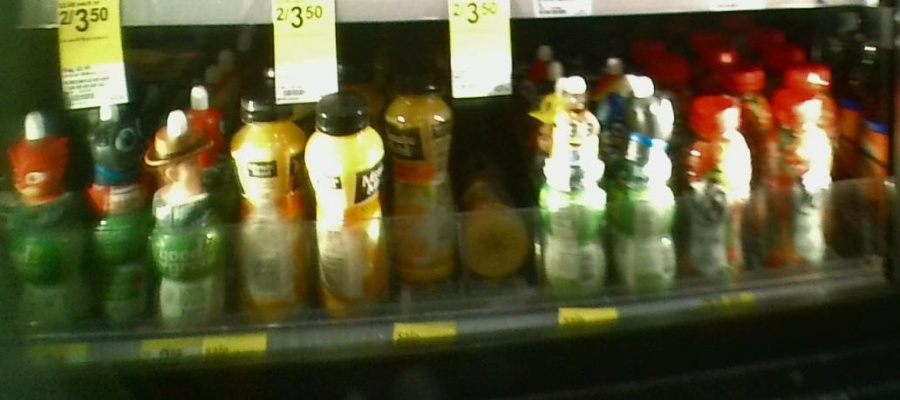bottle: (145, 94, 225, 329), (228, 86, 306, 325), (310, 85, 385, 321), (10, 107, 84, 335), (612, 75, 682, 300), (541, 70, 607, 297), (389, 63, 455, 286), (682, 84, 753, 290), (760, 82, 833, 279), (87, 100, 144, 330), (463, 187, 530, 280)
